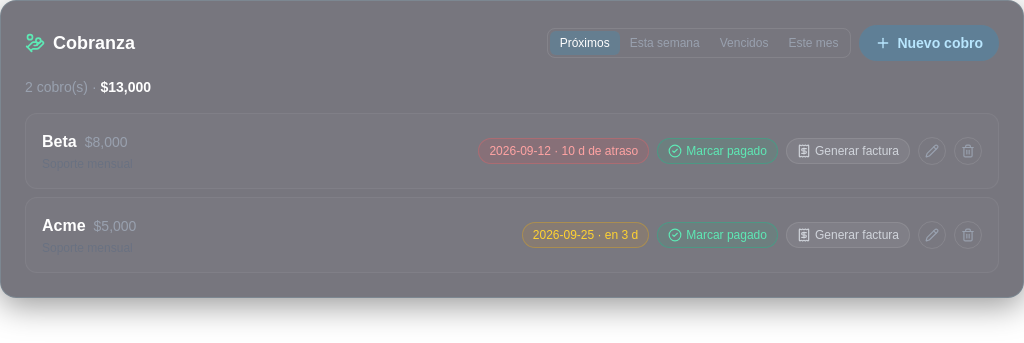
CobranzaSection › shows overdue items under 'Vencidos' with the total
Click the button "Vencidos": {"x": 744, "y": 43} [710,31,778,55]
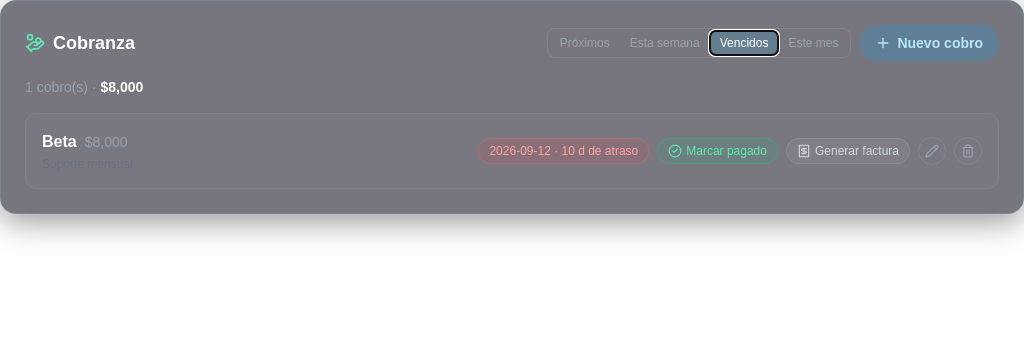
Expected: the text "Beta" is shown, [42,133,77,150]
Now the text "Acme" is gone
Now the text "$8,000" next to "cobro(s) ·" is shown, box [100,79,143,95]
